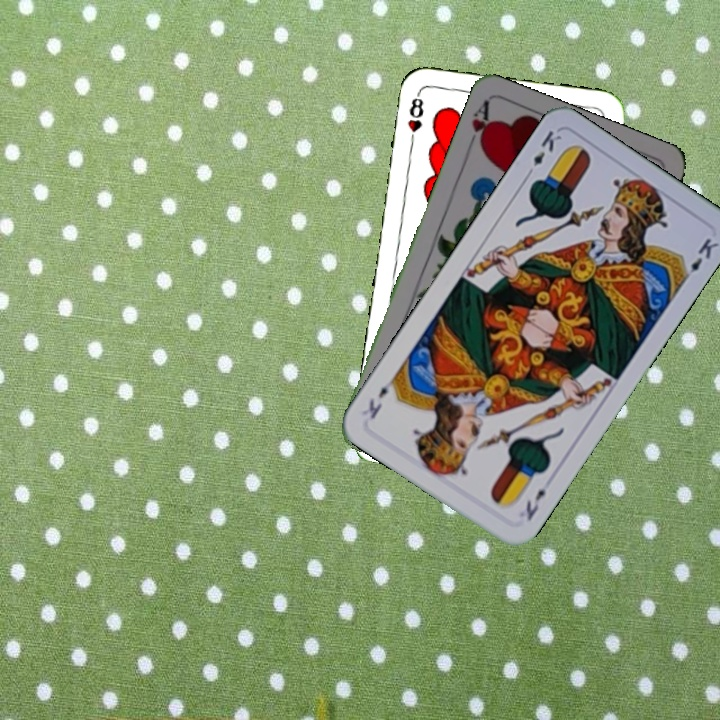EK: (521, 126, 564, 180), (521, 484, 549, 524)
H8: (404, 89, 426, 148)
HA: (463, 97, 496, 155)
